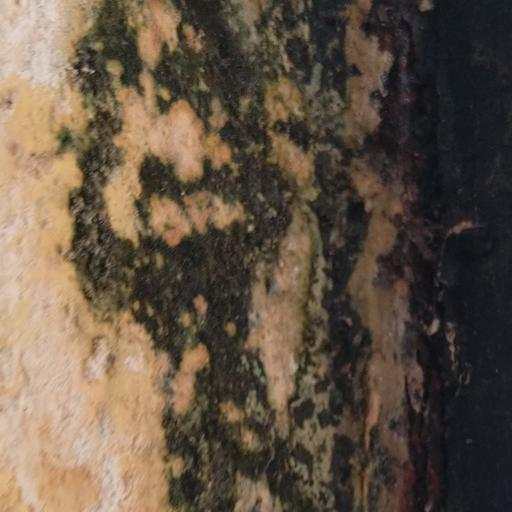algae: (75, 0, 512, 512)
